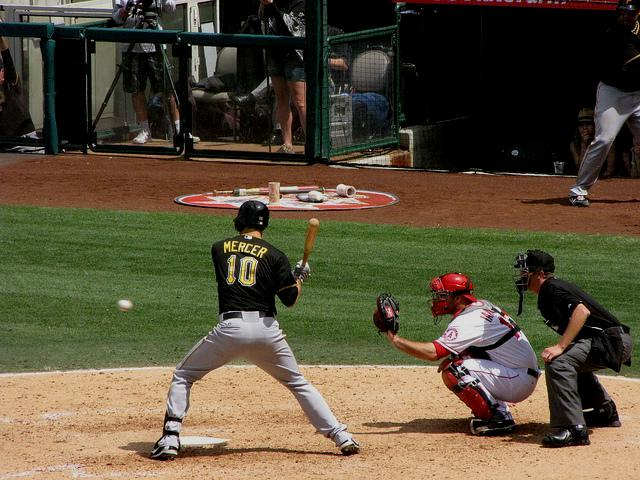ball: (118, 299, 132, 313)
bat: (298, 218, 318, 264)
